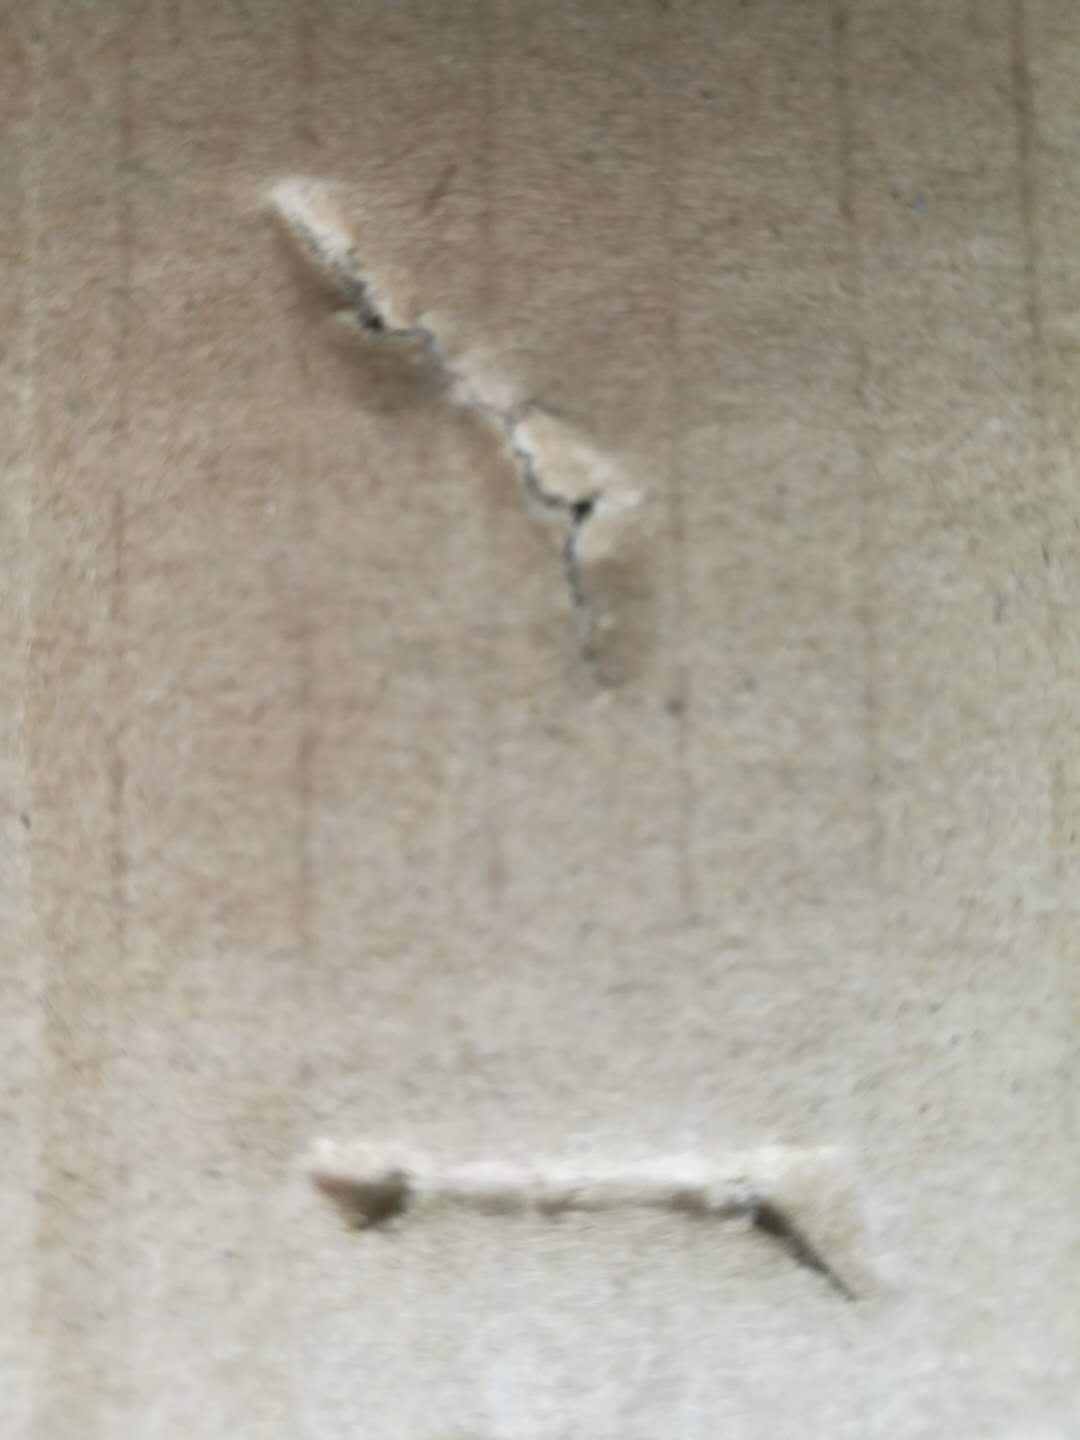defect: (228, 133, 732, 747), (271, 1081, 950, 1361)
